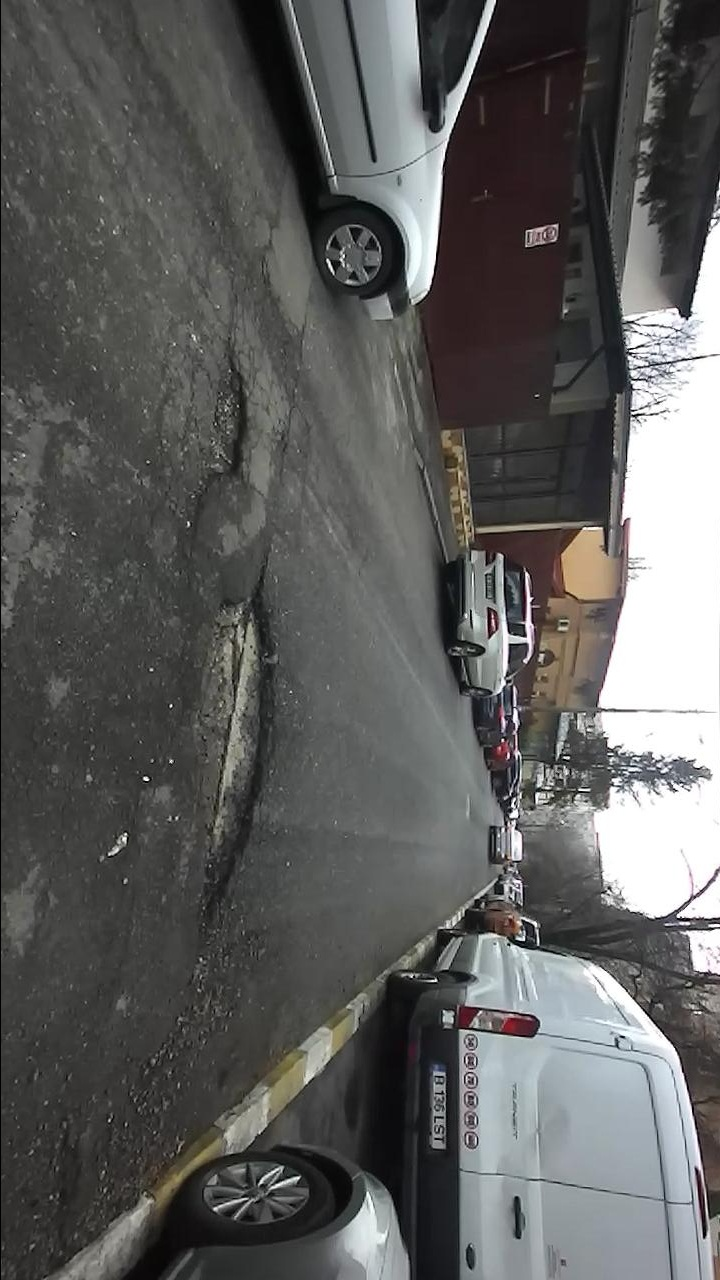pothole: (187, 564, 282, 952), (189, 331, 258, 508)
